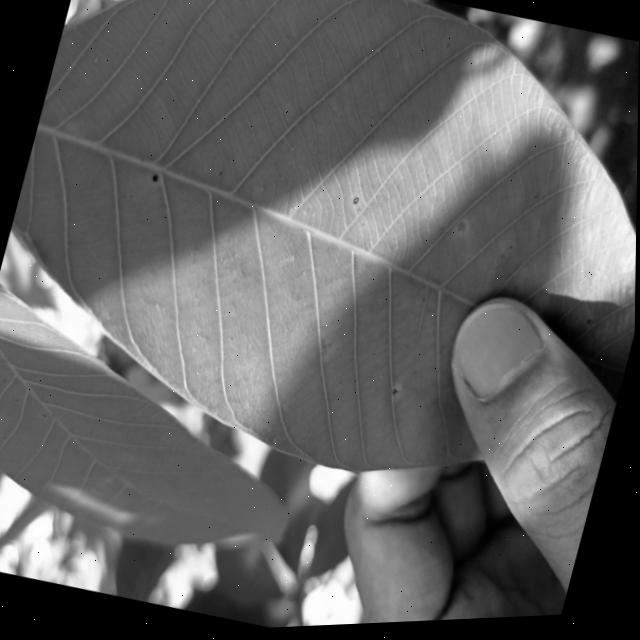Colletotrichum: (151, 176, 157, 183), (353, 200, 358, 207), (392, 392, 397, 397)
